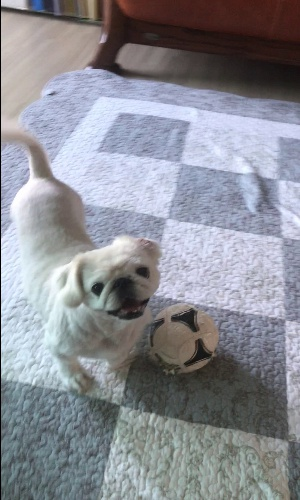ddubi: (2, 118, 163, 394)
